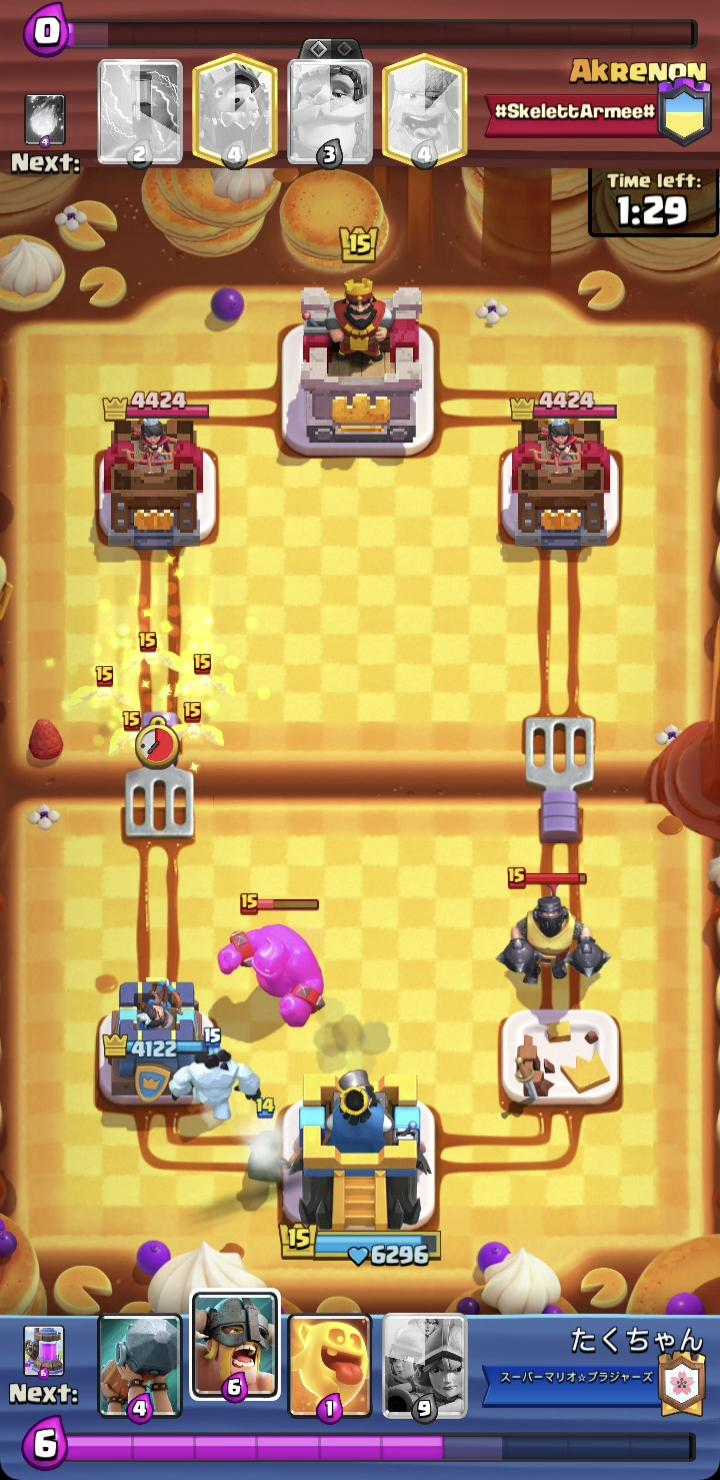ally_bandit: (239, 1095, 294, 1183)
ally_ice_golem: (169, 1023, 266, 1127)
enemy_bat: (76, 659, 133, 717), (161, 701, 228, 747), (166, 658, 228, 703), (106, 710, 157, 758), (128, 629, 174, 678)
enemy_elixirgolem: (218, 890, 328, 1026)
enemy_mega_knight: (497, 864, 611, 984)
